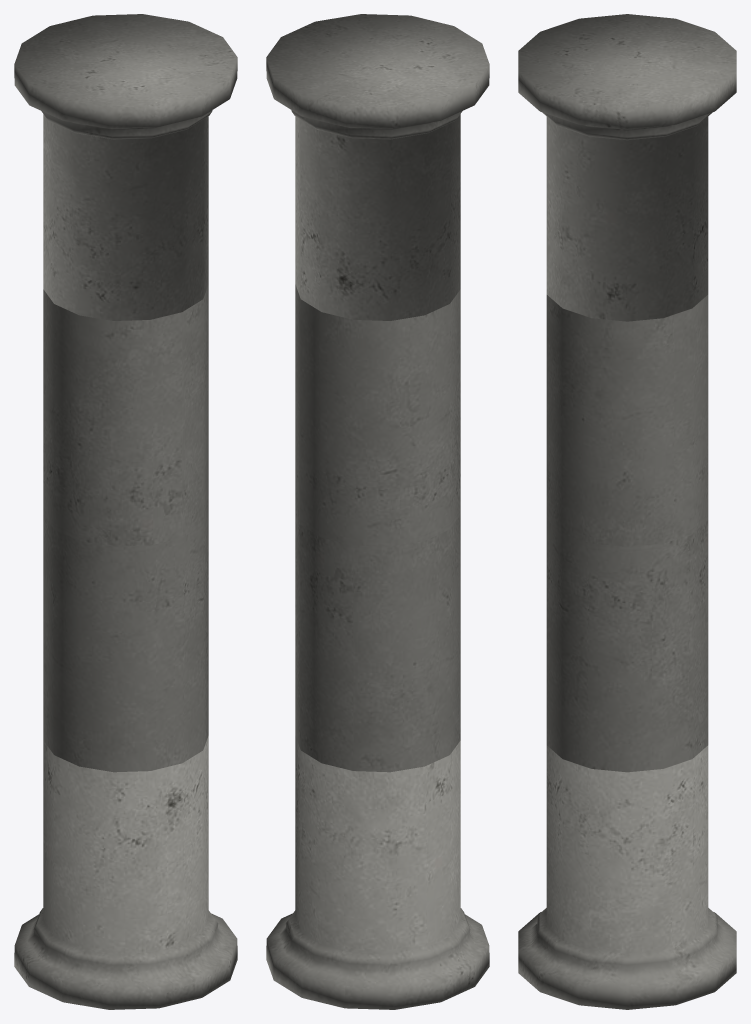
Rendered from pillar.glb.
3 renders of one model, left to right at view 1: azimuth 30°, elevation 25°; view 2: azimuth 150°, elevation 25°; view 3: azimuth 270°, elevation 25°, orthographic.
Visible parts, largest first — view 1: pillar_greek; view 2: pillar_greek; view 3: pillar_greek.
Boxes of the visible parts, box(x1,y1,x2,y2) form: pillar_greek: box(14, 14, 237, 1009); pillar_greek: box(266, 14, 489, 1009); pillar_greek: box(518, 14, 736, 1009).
Bounding box in the file's own units: 0.675 × 3 × 0.6581.
1 material, 1 textured.
